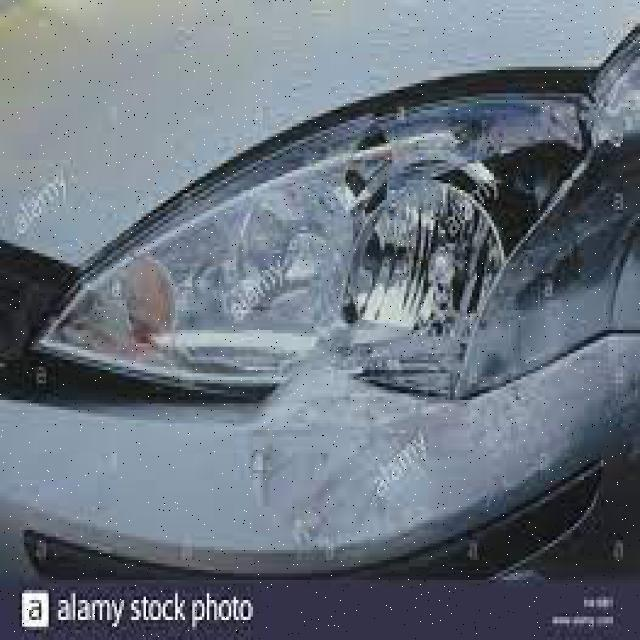Headlight-Damage: (22, 50, 638, 427)
